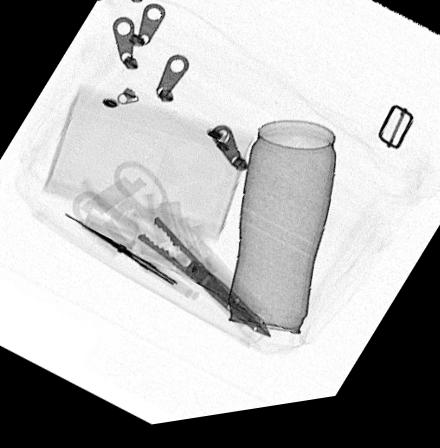Scissors: (70, 162, 273, 346), (62, 209, 202, 311)
